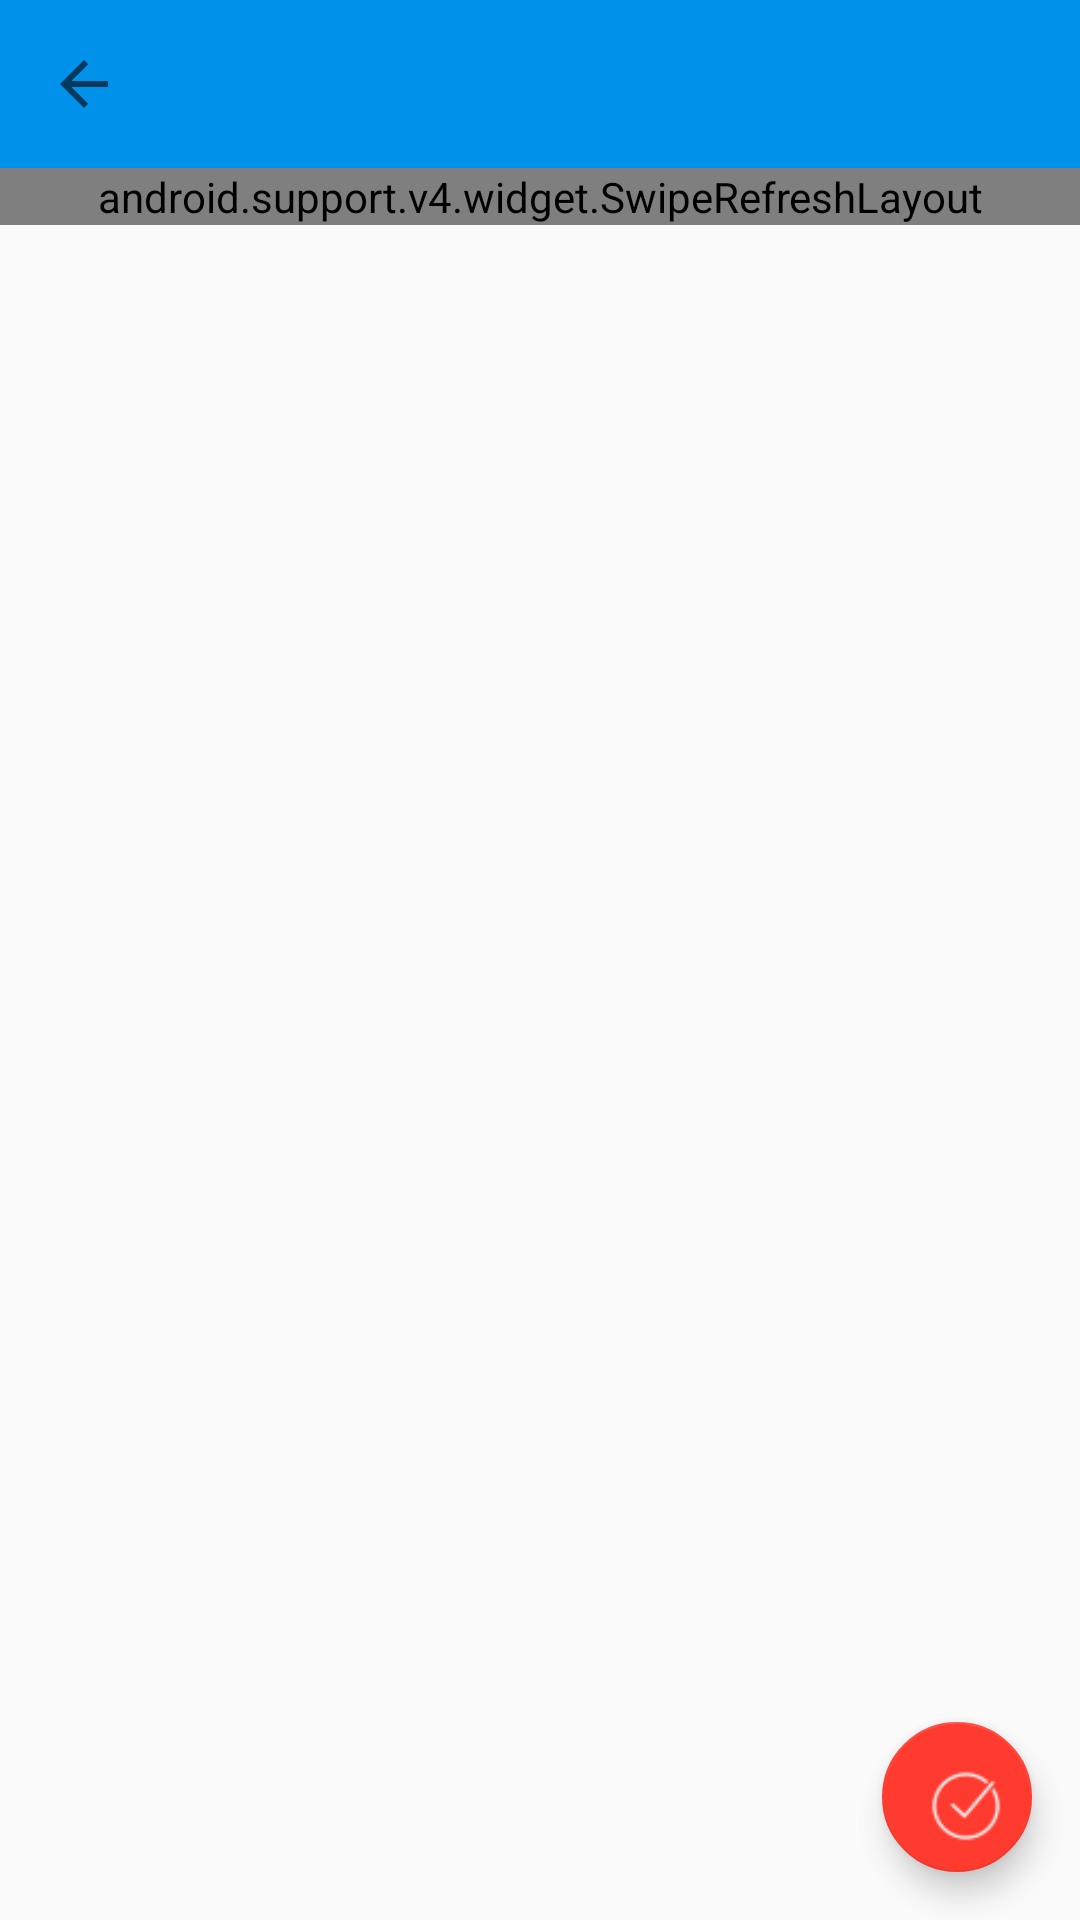

Where to tap for icons on this 1080 x 1920 app screen, as [x,y]:
checked: [957,1797]
